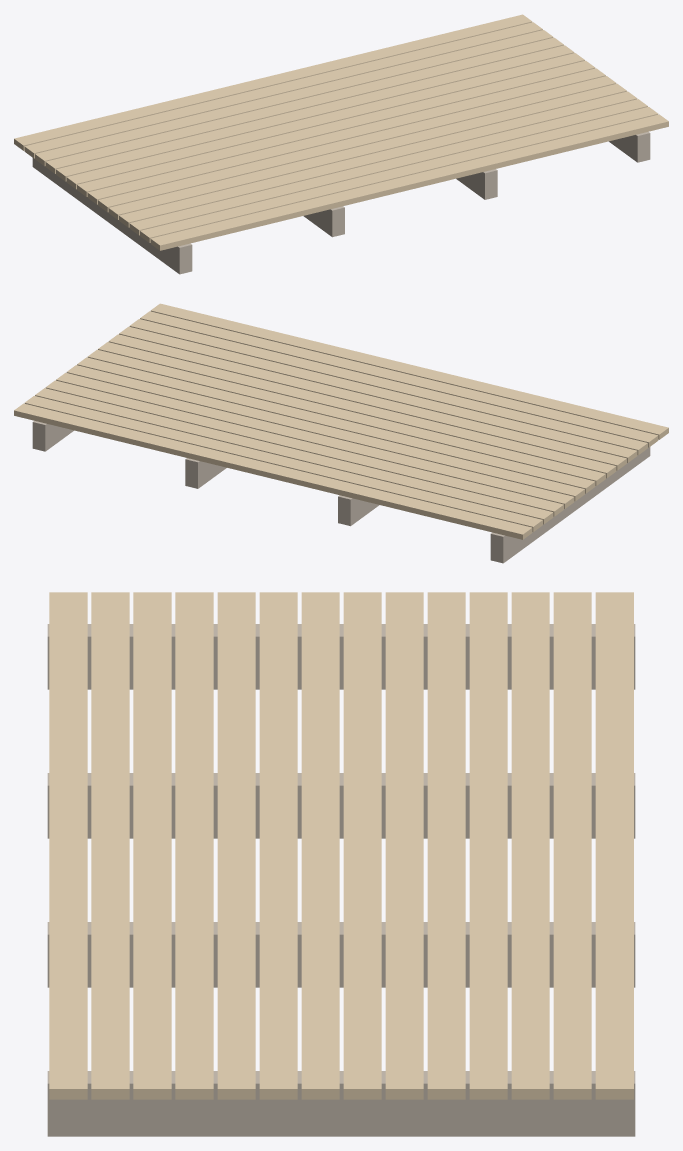
File: boardwalk_planks.glb
3 views of the same model, one above another, from view 1: azimuth 30°, elevation 25°; view 2: azimuth 150°, elevation 25°; view 3: azimuth 270°, elevation 25° (orthographic). The views are drawn at different scales.
Visible parts, largest first — view 1: body; view 2: body; view 3: body.
Part boxes in pixels (x1,y1,x2,y2): body: (14,14,668,274); body: (14,303,668,563); body: (47,592,635,1136).
Size of the model in its own units: 4 by 0.25 by 2.
